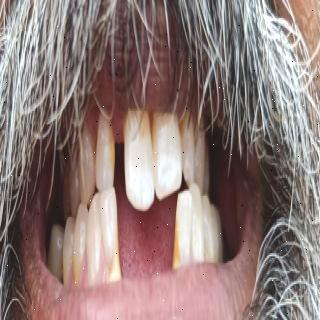calculus: (107, 241, 125, 291)
maligned: (121, 100, 152, 204), (153, 104, 181, 192), (100, 184, 120, 283), (94, 110, 115, 184), (176, 190, 194, 274), (198, 187, 214, 265), (50, 214, 65, 282), (184, 105, 196, 188), (195, 115, 207, 196), (189, 178, 201, 258), (208, 198, 221, 266), (202, 133, 216, 191), (65, 220, 77, 284), (71, 165, 83, 221), (62, 166, 72, 217)
stains: (106, 119, 117, 178), (172, 217, 184, 271)
